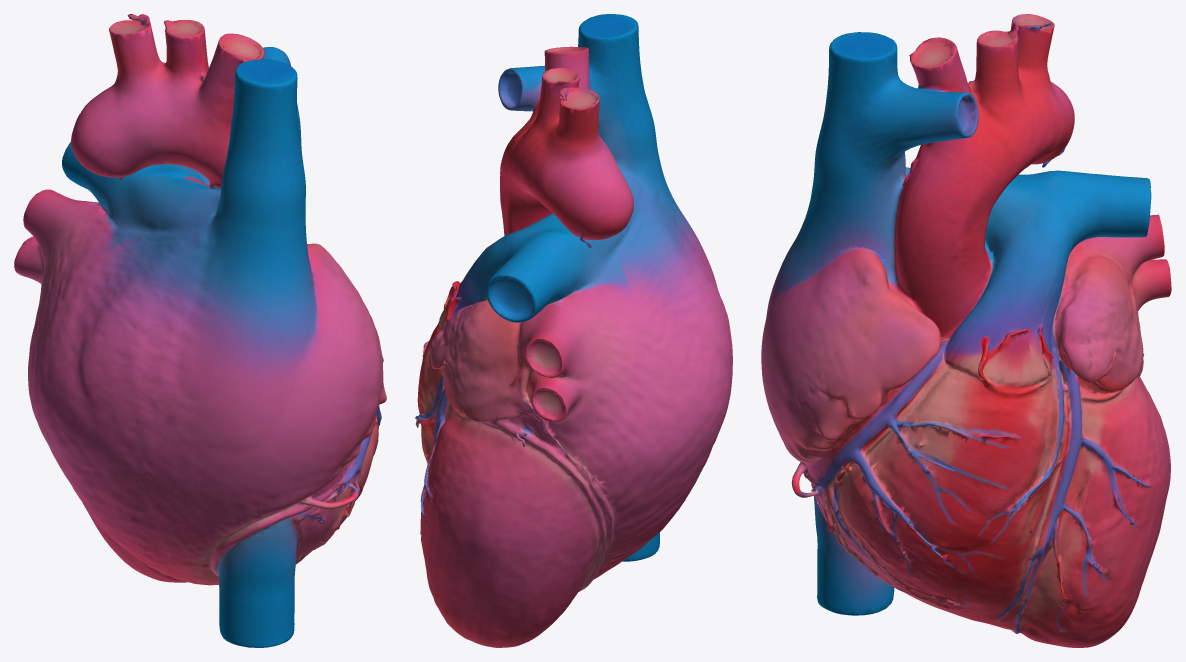
The model's file is heart.glb.
3 renders of one model, left to right at view 1: azimuth 30°, elevation 25°; view 2: azimuth 150°, elevation 25°; view 3: azimuth 270°, elevation 25°, orthographic. The views are drawn at different scales.
Parts seen in each view (by area): view 1: tripo_node_a904c0bd_tripo_mat_a904c0bd_0; view 2: tripo_node_a904c0bd_tripo_mat_a904c0bd_0; view 3: tripo_node_a904c0bd_tripo_mat_a904c0bd_0.
Boxes of the visible parts, left/top/right/bottom form: tripo_node_a904c0bd_tripo_mat_a904c0bd_0: left=14, top=14, right=386, bottom=647; tripo_node_a904c0bd_tripo_mat_a904c0bd_0: left=415, top=14, right=732, bottom=647; tripo_node_a904c0bd_tripo_mat_a904c0bd_0: left=761, top=14, right=1171, bottom=647.
Size of the model in its own units: 0.5394 by 0.9999 by 0.627.
1 material, 1 textured.
